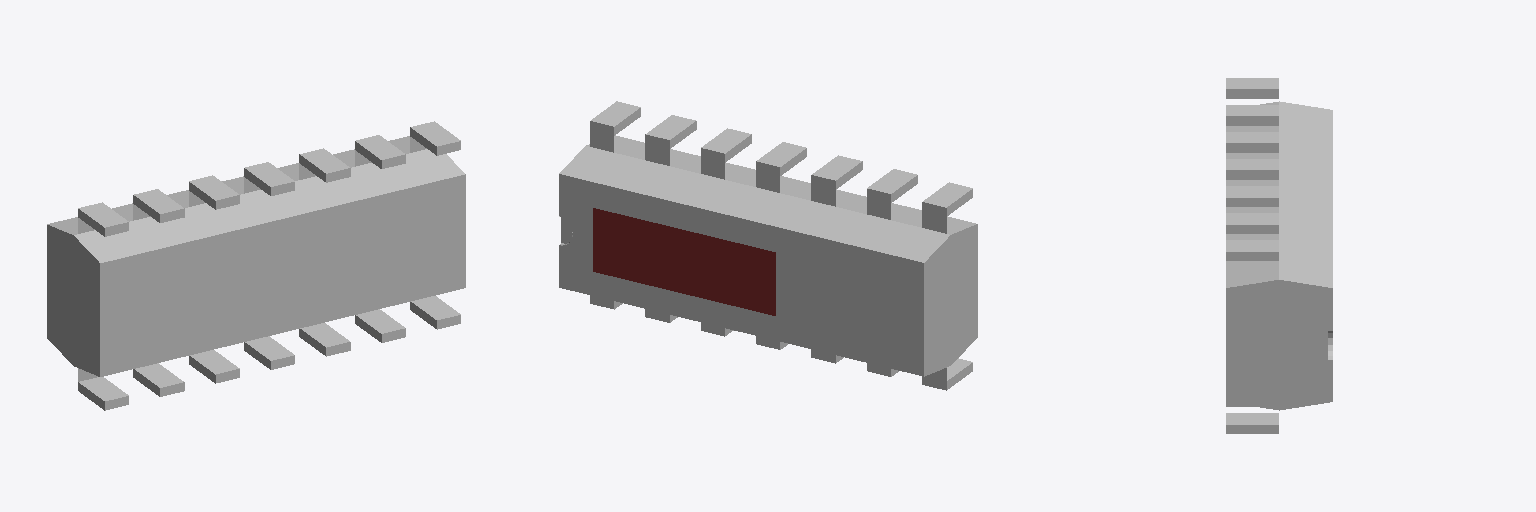
File: DIL14.obj
3 renders of one model, left to right at view 1: azimuth 30°, elevation 25°; view 2: azimuth 150°, elevation 25°; view 3: azimuth 270°, elevation 25°, orthographic.
Parts seen in each view (by area): view 1: ShapeIndexedFaceSet.030_ShapeIndexedFaceSet, ShapeIndexedFaceSet.006_ShapeIndexedFaceSet.007, ShapeIndexedFaceSet.010_ShapeIndexedFaceSet.011, ShapeIndexedFaceSet.014_ShapeIndexedFaceSet.015, ShapeIndexedFaceSet.012_ShapeIndexedFaceSet.013, ShapeIndexedFaceSet.008_ShapeIndexedFaceSet.009, ShapeIndexedFaceSet.001_ShapeIndexedFaceSet.002, ShapeIndexedFaceSet.004_ShapeIndexedFaceSet.005, ShapeIndexedFaceSet.021_ShapeIndexedFaceSet.022, ShapeIndexedFaceSet.023_ShapeIndexedFaceSet.024, ShapeIndexedFaceSet.019_ShapeIndexedFaceSet.020, ShapeIndexedFaceSet.025_ShapeIndexedFaceSet.026 (+3 smaller); view 2: ShapeIndexedFaceSet.030_ShapeIndexedFaceSet, ShapeIndexedFaceSet_ShapeIndexedFaceSet.001, ShapeIndexedFaceSet.004_ShapeIndexedFaceSet.005, ShapeIndexedFaceSet.012_ShapeIndexedFaceSet.013, ShapeIndexedFaceSet.010_ShapeIndexedFaceSet.011, ShapeIndexedFaceSet.006_ShapeIndexedFaceSet.007, ShapeIndexedFaceSet.014_ShapeIndexedFaceSet.015, ShapeIndexedFaceSet.008_ShapeIndexedFaceSet.009, ShapeIndexedFaceSet.001_ShapeIndexedFaceSet.002, ShapeIndexedFaceSet.021_ShapeIndexedFaceSet.022; view 3: ShapeIndexedFaceSet.030_ShapeIndexedFaceSet, ShapeIndexedFaceSet.015_ShapeIndexedFaceSet.016, ShapeIndexedFaceSet.014_ShapeIndexedFaceSet.015, ShapeIndexedFaceSet.012_ShapeIndexedFaceSet.013, ShapeIndexedFaceSet.010_ShapeIndexedFaceSet.011, ShapeIndexedFaceSet.008_ShapeIndexedFaceSet.009, ShapeIndexedFaceSet.006_ShapeIndexedFaceSet.007, ShapeIndexedFaceSet.004_ShapeIndexedFaceSet.005, ShapeIndexedFaceSet.001_ShapeIndexedFaceSet.002.
Part boxes in pixels (bbox=[...]): ShapeIndexedFaceSet.030_ShapeIndexedFaceSet: bbox=[47, 136, 465, 376]; ShapeIndexedFaceSet.006_ShapeIndexedFaceSet.007: bbox=[133, 189, 184, 222]; ShapeIndexedFaceSet.010_ShapeIndexedFaceSet.011: bbox=[299, 148, 350, 182]; ShapeIndexedFaceSet.014_ShapeIndexedFaceSet.015: bbox=[410, 121, 460, 155]; ShapeIndexedFaceSet.012_ShapeIndexedFaceSet.013: bbox=[355, 135, 405, 168]; ShapeIndexedFaceSet.008_ShapeIndexedFaceSet.009: bbox=[78, 202, 128, 236]; ShapeIndexedFaceSet.001_ShapeIndexedFaceSet.002: bbox=[244, 162, 294, 195]; ShapeIndexedFaceSet.004_ShapeIndexedFaceSet.005: bbox=[189, 175, 239, 209]; ShapeIndexedFaceSet.021_ShapeIndexedFaceSet.022: bbox=[78, 377, 128, 410]; ShapeIndexedFaceSet.023_ShapeIndexedFaceSet.024: bbox=[133, 363, 184, 396]; ShapeIndexedFaceSet.019_ShapeIndexedFaceSet.020: bbox=[299, 323, 350, 356]; ShapeIndexedFaceSet.025_ShapeIndexedFaceSet.026: bbox=[189, 350, 239, 383]; ShapeIndexedFaceSet.030_ShapeIndexedFaceSet: bbox=[559, 135, 977, 376]; ShapeIndexedFaceSet_ShapeIndexedFaceSet.001: bbox=[593, 208, 775, 315]; ShapeIndexedFaceSet.004_ShapeIndexedFaceSet.005: bbox=[811, 155, 862, 189]; ShapeIndexedFaceSet.012_ShapeIndexedFaceSet.013: bbox=[645, 115, 696, 148]; ShapeIndexedFaceSet.010_ShapeIndexedFaceSet.011: bbox=[701, 128, 751, 162]; ShapeIndexedFaceSet.006_ShapeIndexedFaceSet.007: bbox=[867, 169, 917, 202]; ShapeIndexedFaceSet.014_ShapeIndexedFaceSet.015: bbox=[590, 101, 640, 135]; ShapeIndexedFaceSet.008_ShapeIndexedFaceSet.009: bbox=[922, 182, 972, 216]; ShapeIndexedFaceSet.001_ShapeIndexedFaceSet.002: bbox=[756, 142, 806, 175]; ShapeIndexedFaceSet.021_ShapeIndexedFaceSet.022: bbox=[922, 358, 972, 390]; ShapeIndexedFaceSet.030_ShapeIndexedFaceSet: bbox=[1226, 101, 1332, 410]; ShapeIndexedFaceSet.015_ShapeIndexedFaceSet.016: bbox=[1226, 413, 1278, 433]; ShapeIndexedFaceSet.014_ShapeIndexedFaceSet.015: bbox=[1226, 240, 1278, 260]; ShapeIndexedFaceSet.012_ShapeIndexedFaceSet.013: bbox=[1226, 213, 1278, 233]; ShapeIndexedFaceSet.010_ShapeIndexedFaceSet.011: bbox=[1226, 186, 1278, 206]; ShapeIndexedFaceSet.008_ShapeIndexedFaceSet.009: bbox=[1226, 78, 1278, 98]; ShapeIndexedFaceSet.006_ShapeIndexedFaceSet.007: bbox=[1226, 105, 1278, 125]; ShapeIndexedFaceSet.004_ShapeIndexedFaceSet.005: bbox=[1226, 132, 1278, 152]; ShapeIndexedFaceSet.001_ShapeIndexedFaceSet.002: bbox=[1226, 159, 1278, 179].
Size of the model in its own units: 16.76 by 8.02 by 4.3.